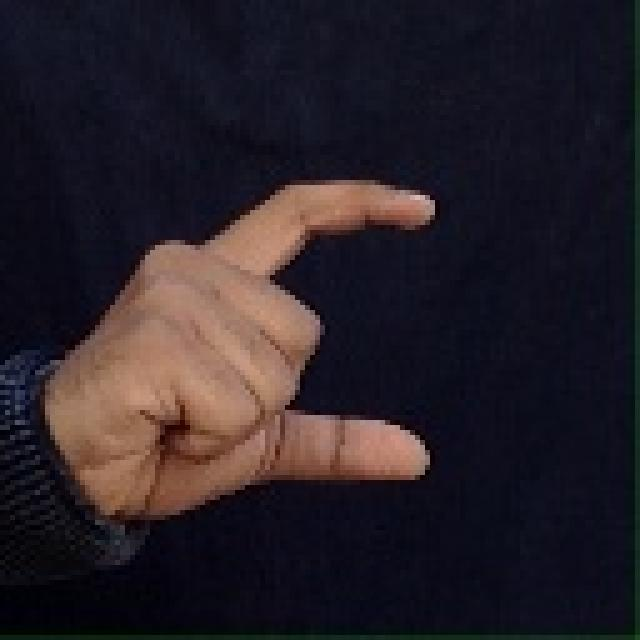C: (33, 100, 515, 592)
